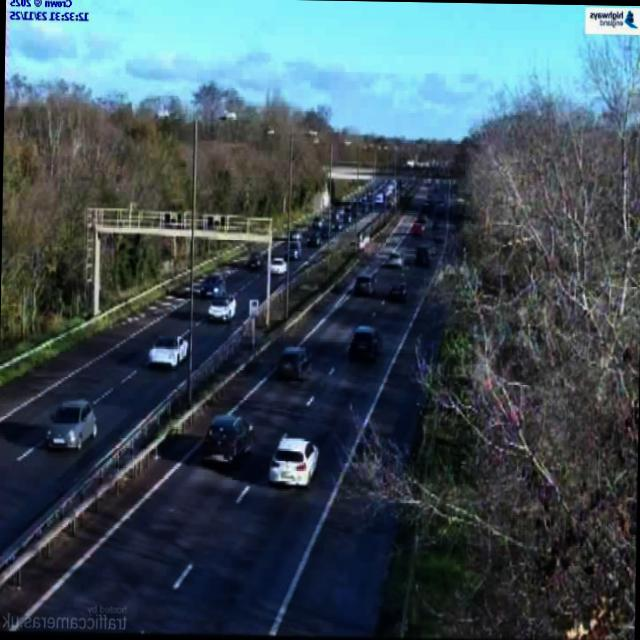foliage: (345, 39, 640, 640), (0, 76, 192, 349), (198, 86, 329, 218), (105, 238, 185, 292)
